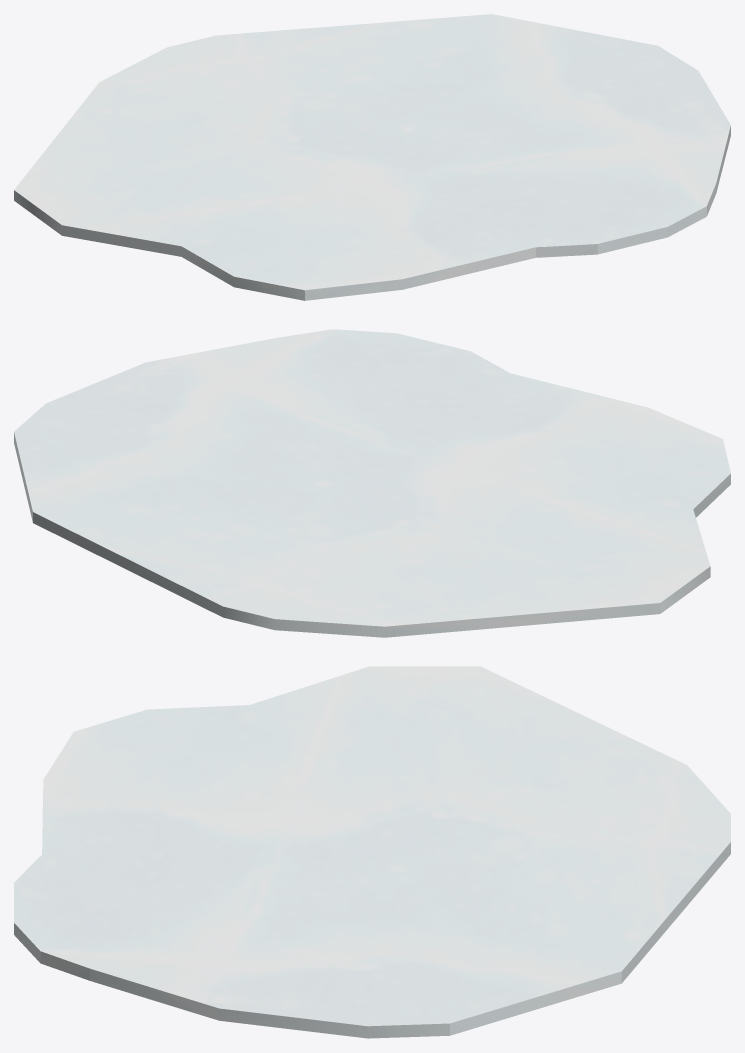
Rendered from ice plane1.fbx.
3 views of the same model, one above another, from view 1: azimuth 30°, elevation 25°; view 2: azimuth 150°, elevation 25°; view 3: azimuth 270°, elevation 25° (orthographic). The views are drawn at different scales.
Parts seen in each view (by area): view 1: polySurface1; view 2: polySurface1; view 3: polySurface1.
Part boxes in pixels (x1,y1,x2,y2): polySurface1: (14, 14, 730, 300); polySurface1: (14, 329, 730, 637); polySurface1: (14, 666, 730, 1038).
Bounding box in the file's own units: 1.71 × 0.0271 × 1.44.
Materials: 1 (1 with a texture image).
